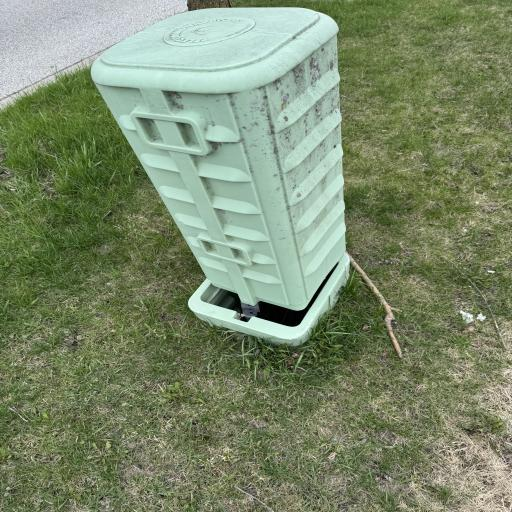Electrical Box: (92, 6, 354, 346)
